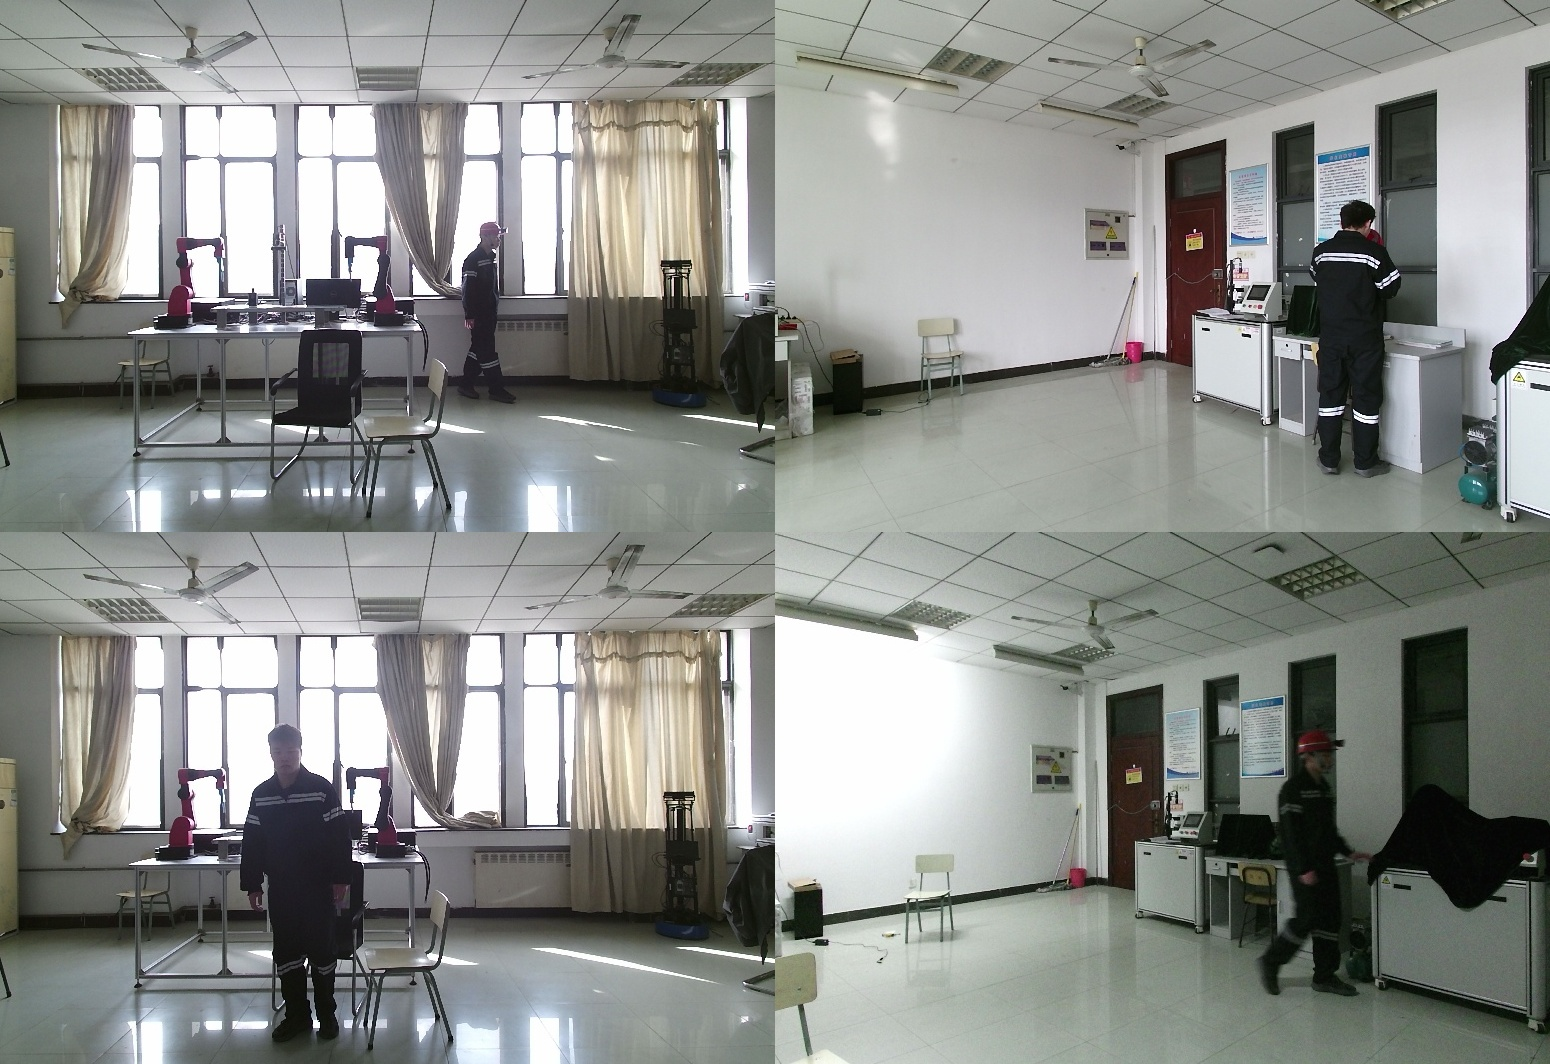person: (242, 723, 361, 1039), (1305, 203, 1426, 474), (1253, 732, 1363, 995), (462, 222, 519, 413)
